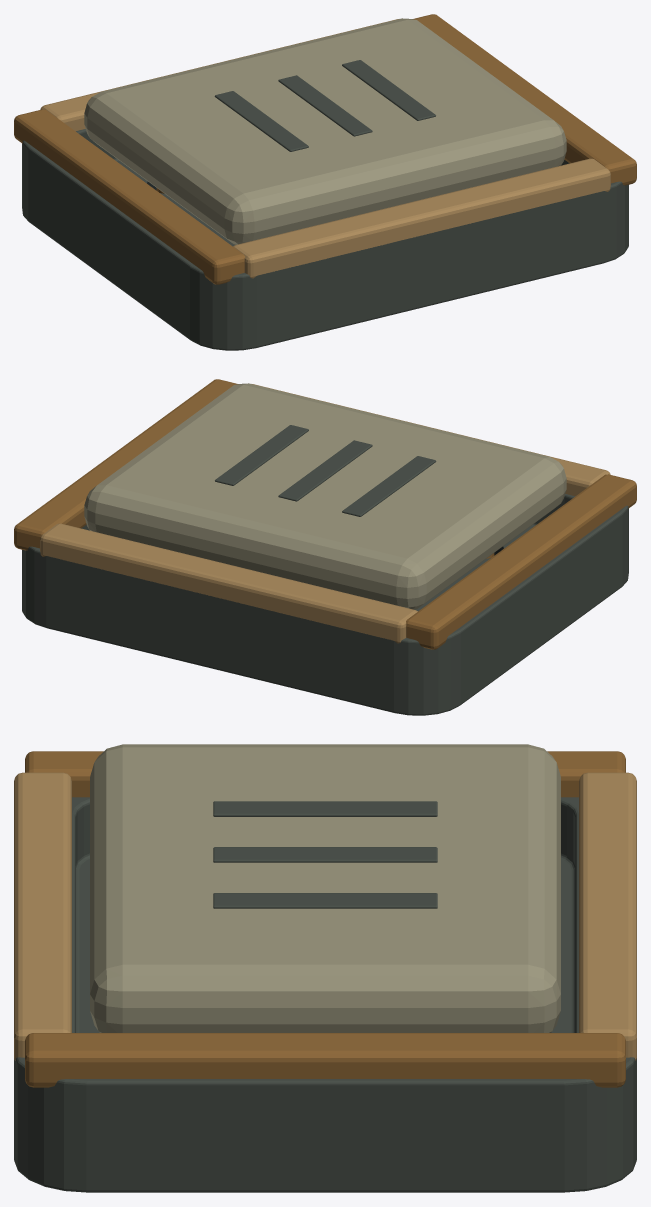
File: PRESSURE_PLATE.hi.glb
3 views of the same model, one above another, from view 1: azimuth 30°, elevation 25°; view 2: azimuth 150°, elevation 25°; view 3: azimuth 270°, elevation 25° (orthographic). The views are drawn at different scales.
Visible parts, largest first — view 1: Body_Mesh, PlateTravel_Mesh; view 2: Body_Mesh, PlateTravel_Mesh; view 3: Body_Mesh, PlateTravel_Mesh.
Boxes of the visible parts, <box> form: Body_Mesh: <box>14,14,636,350</box>; PlateTravel_Mesh: <box>84,18,566,244</box>; Body_Mesh: <box>14,379,636,715</box>; PlateTravel_Mesh: <box>84,383,566,609</box>; Body_Mesh: <box>14,751,636,1192</box>; PlateTravel_Mesh: <box>90,744,560,1032</box>.
Bounding box in the file's own units: 1.02 × 0.2805 × 0.86.
